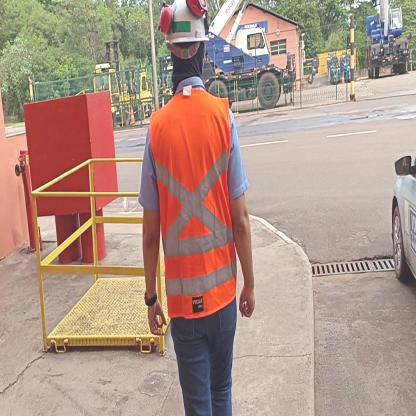Balaclava: (171, 46, 202, 86)
Capacete: (166, 0, 210, 47)
colete: (154, 104, 237, 310)
